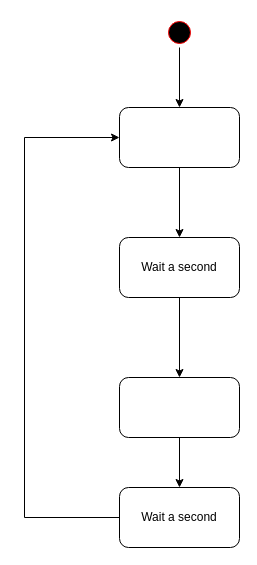
Image size: 257x565. Some labels were removed from this diagram. The shapes that lost their labels are listed below. From the top down, each one's centre as x and y in pixels, then its label:
At point 179,137: "Turn on lights 1,3,5,7".
At point 179,407: "Turn on lights 2,4,6,8".
